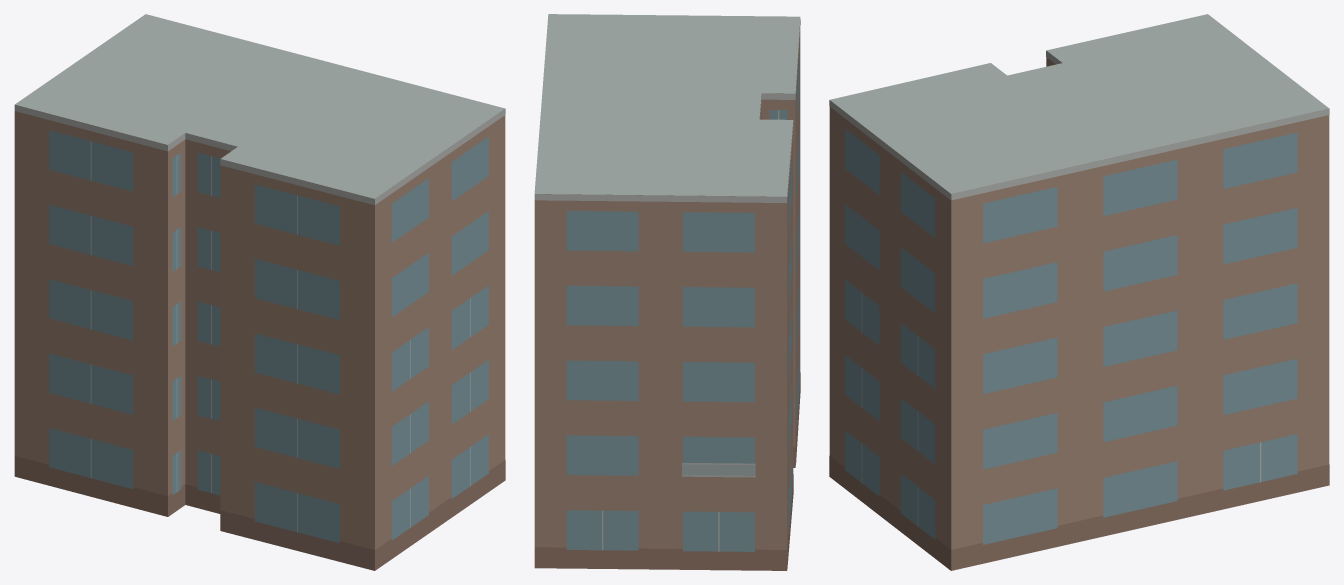
The model's file is survey-upis-32707306.glb.
3 renders of one model, left to right at view 1: azimuth 30°, elevation 25°; view 2: azimuth 150°, elevation 25°; view 3: azimuth 270°, elevation 25°, orthographic.
Visible parts, largest first — view 1: survey-upis-32707306.tmp; view 2: survey-upis-32707306.tmp; view 3: survey-upis-32707306.tmp.
Boxes of the visible parts, x1,y1,x2,y2 form: survey-upis-32707306.tmp: (14,14,505,570); survey-upis-32707306.tmp: (534,14,800,570); survey-upis-32707306.tmp: (829,14,1329,570).
Size of the model in its own units: 14.61 by 14.25 by 17.14.
